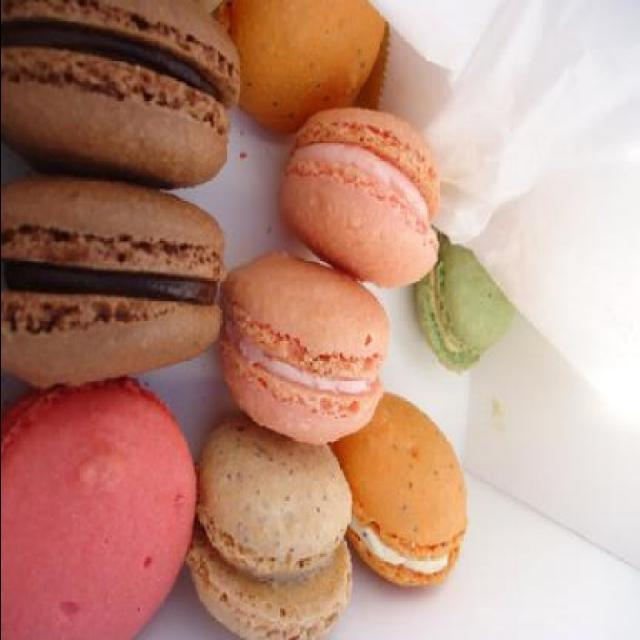Macaron: (1, 4, 512, 638)
